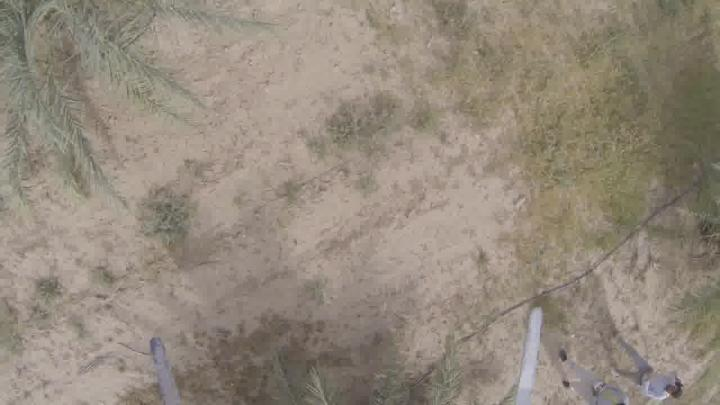Date-Palm-Crown: (0, 0, 94, 93)
